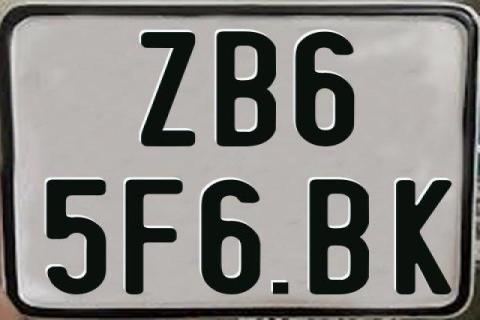0: (199, 180, 264, 296), (295, 31, 359, 147), (46, 177, 106, 297)
B: (215, 31, 278, 149), (308, 180, 368, 298)
F: (122, 179, 182, 299)
K: (393, 178, 455, 294)
Z: (140, 30, 200, 146)
